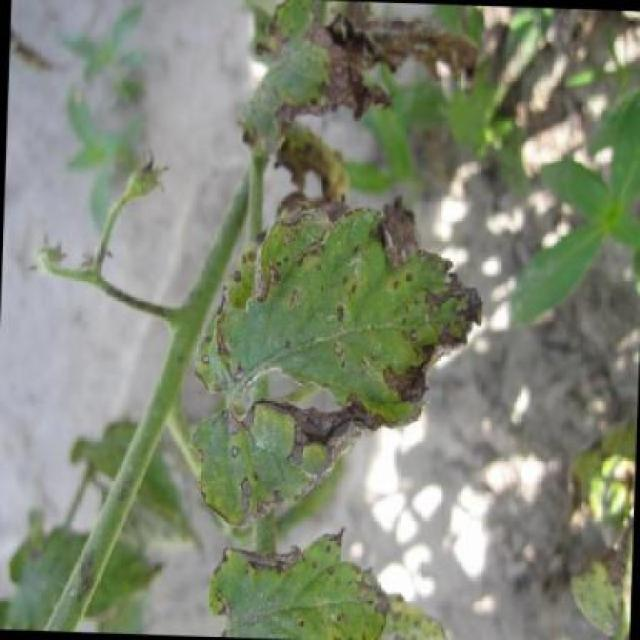Tomato leaf bacterial spot: (166, 177, 483, 537), (203, 540, 463, 640)
